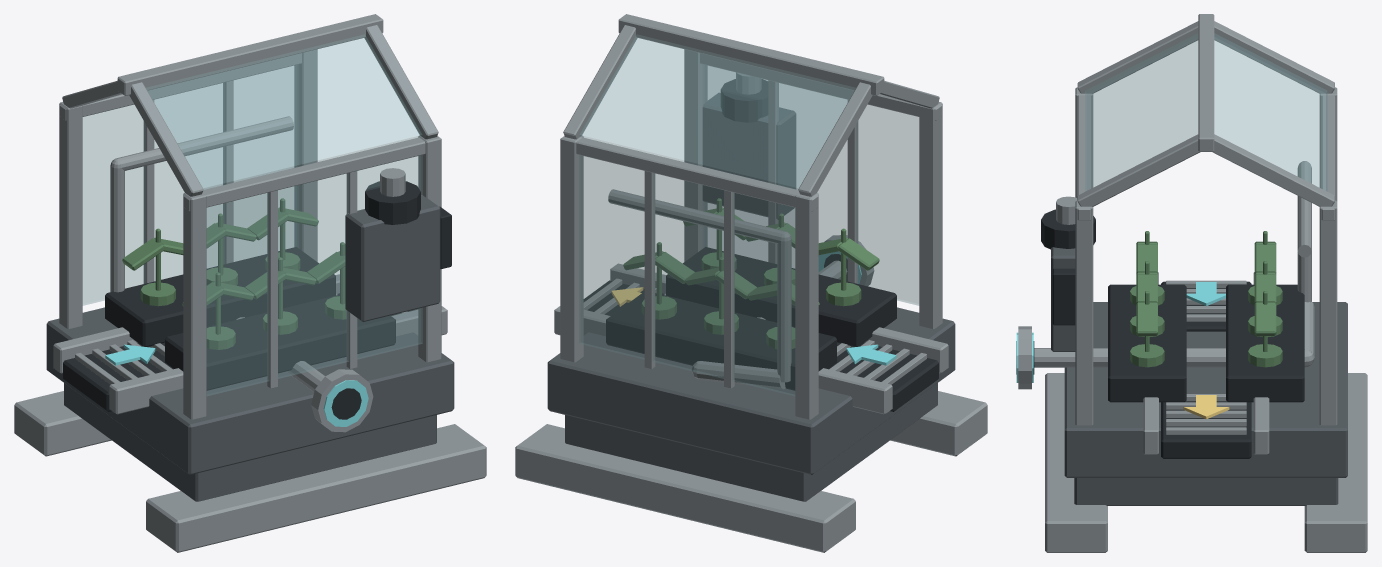
File: greenhouse-mk1.glb
The picture shows the model from 3 angles, left to right: view 1: azimuth 30°, elevation 25°; view 2: azimuth 150°, elevation 25°; view 3: azimuth 270°, elevation 25°; orthographic projection.
Visible parts, largest first — view 1: greenhouse / Machined steel, greenhouse / Smoky greenhouse glazing, greenhouse / Graphite enamel, greenhouse / Recesses and belt, greenhouse / Muted hydroponic foliage, greenhouse / Cyan inlet markings; view 2: greenhouse / Machined steel, greenhouse / Smoky greenhouse glazing, greenhouse / Graphite enamel, greenhouse / Recesses and belt, greenhouse / Muted hydroponic foliage, greenhouse / Cyan inlet markings; view 3: greenhouse / Machined steel, greenhouse / Graphite enamel, greenhouse / Smoky greenhouse glazing, greenhouse / Recesses and belt, greenhouse / Muted hydroponic foliage, greenhouse / Cyan inlet markings, greenhouse / Gold outlet markings.
Part boxes in pixels (<box>): greenhouse / Machined steel: <box>14,14,486,552</box>; greenhouse / Smoky greenhouse glazing: <box>83,35,422,395</box>; greenhouse / Graphite enamel: <box>46,195,454,501</box>; greenhouse / Recesses and belt: <box>63,181,451,419</box>; greenhouse / Muted hydroponic foliage: <box>122,198,346,349</box>; greenhouse / Cyan inlet markings: <box>105,344,368,426</box>; greenhouse / Machined steel: <box>515,14,987,552</box>; greenhouse / Smoky greenhouse glazing: <box>579,35,918,395</box>; greenhouse / Graphite enamel: <box>547,93,955,501</box>; greenhouse / Recesses and belt: <box>583,79,938,411</box>; greenhouse / Muted hydroponic foliage: <box>623,198,879,349</box>; greenhouse / Cyan inlet markings: <box>818,251,896,365</box>; greenhouse / Machined steel: <box>1018,14,1367,552</box>; greenhouse / Graphite enamel: <box>1051,247,1347,505</box>; greenhouse / Smoky greenhouse glazing: <box>1085,33,1327,191</box>; greenhouse / Recesses and belt: <box>1016,209,1304,458</box>; greenhouse / Muted hydroponic foliage: <box>1130,231,1282,367</box>; greenhouse / Cyan inlet markings: <box>1016,282,1225,382</box>; greenhouse / Gold outlet markings: <box>1183,395,1229,419</box>.
Bounding box in the file's own units: 0.96 × 1.13 × 0.893.
